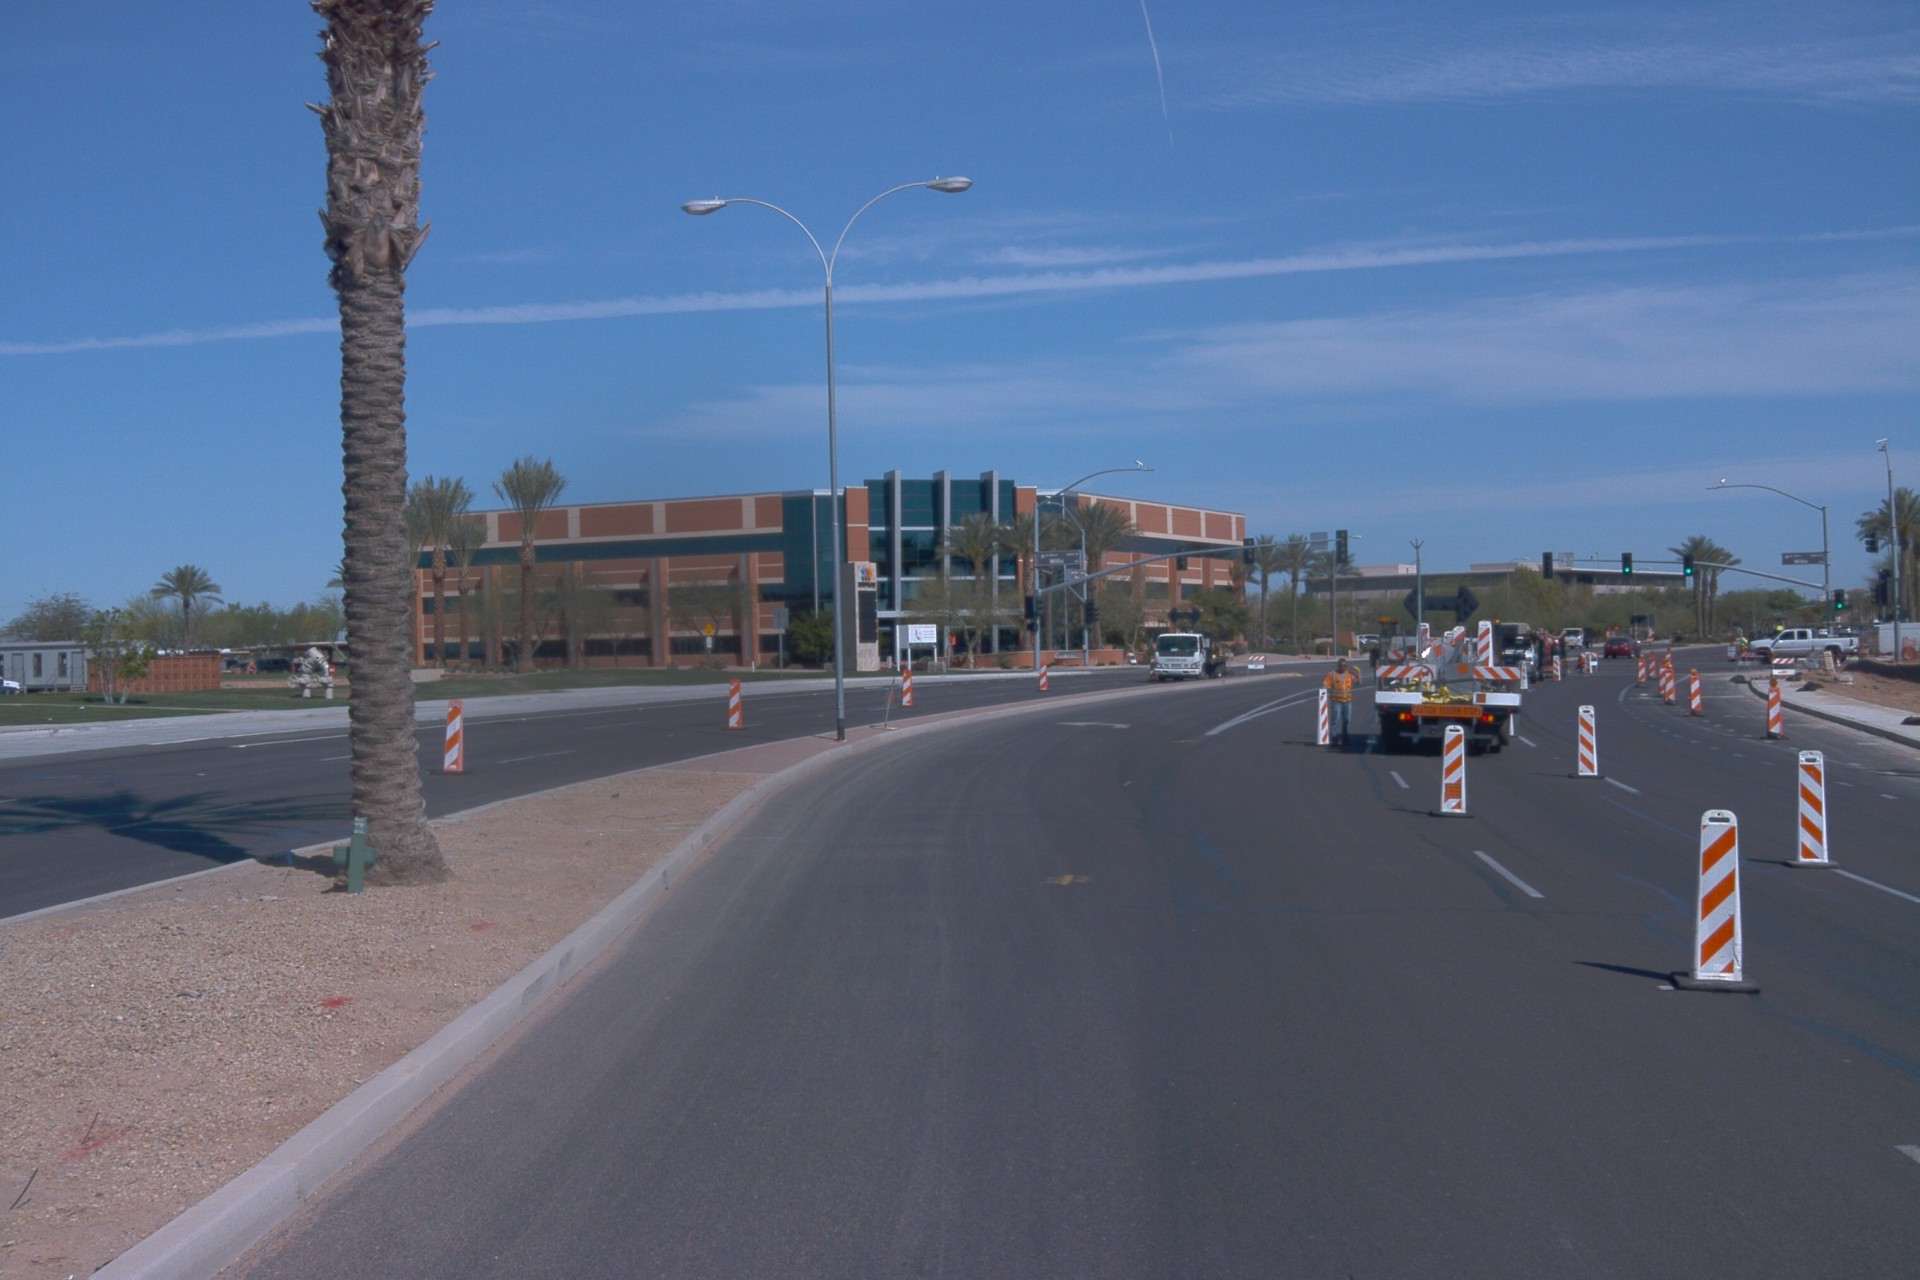TYPE_PEDESTRIAN: (1320, 658, 1363, 749)
TYPE_VEHICLE: (1364, 581, 1542, 760), (1488, 617, 1571, 688), (1748, 622, 1858, 674), (1148, 629, 1240, 687), (1602, 633, 1641, 663), (1561, 626, 1600, 652), (0, 674, 22, 699), (0, 680, 26, 699), (1357, 631, 1382, 647)
